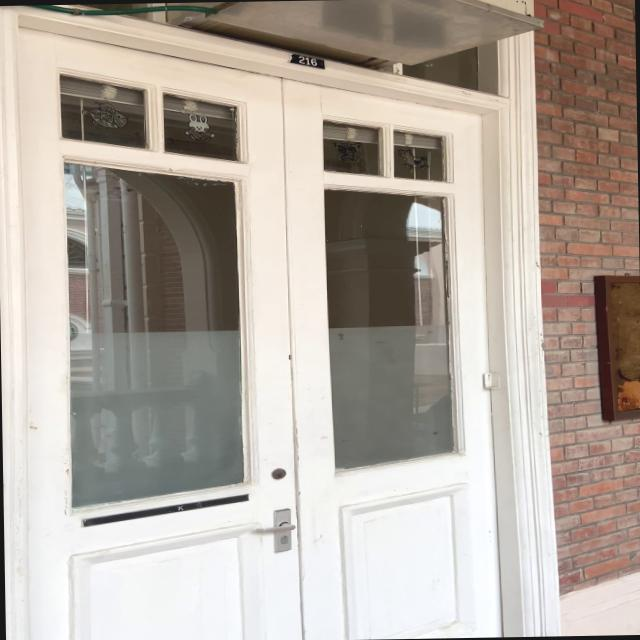room216: (286, 49, 328, 71)
